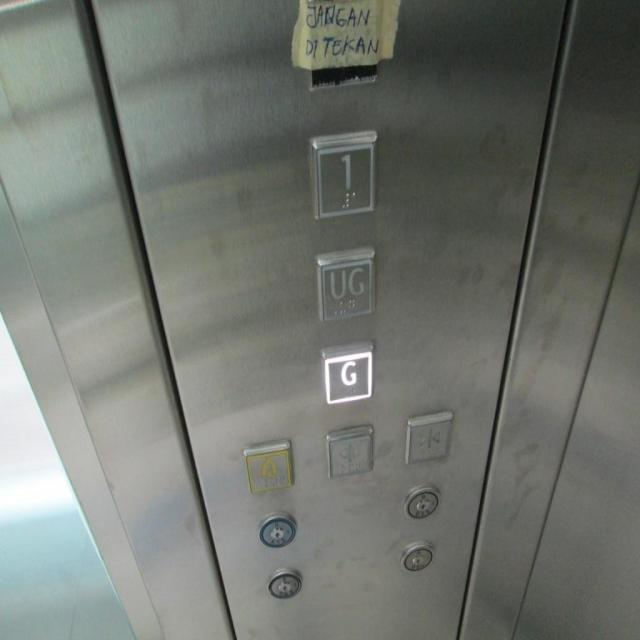1: (309, 130, 377, 219)
G: (319, 341, 374, 404)
UG: (314, 246, 376, 323)
alarm: (242, 438, 294, 492)
close: (404, 411, 454, 467)
keyhole: (256, 510, 297, 548), (401, 484, 441, 522), (398, 539, 436, 574), (266, 567, 302, 599)
open: (325, 424, 374, 478)
